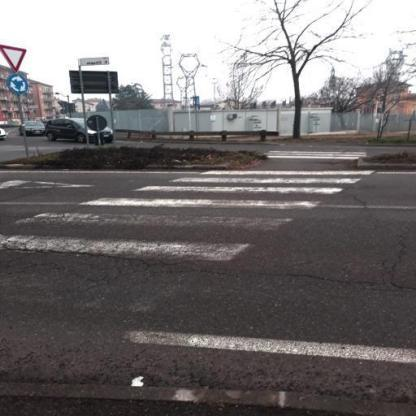crosswalk: (11, 192, 326, 236), (170, 168, 385, 186)
